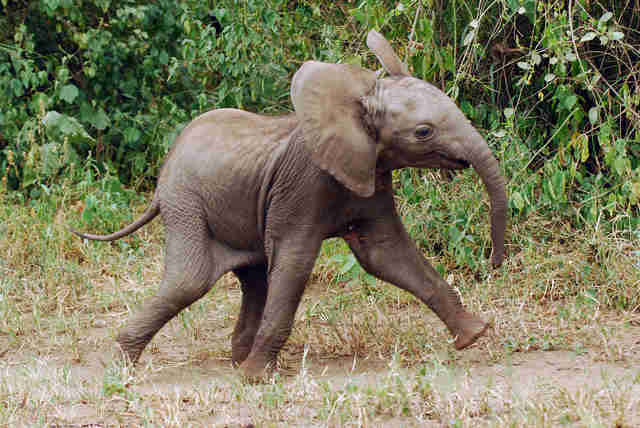elephant: (81, 28, 519, 373)
